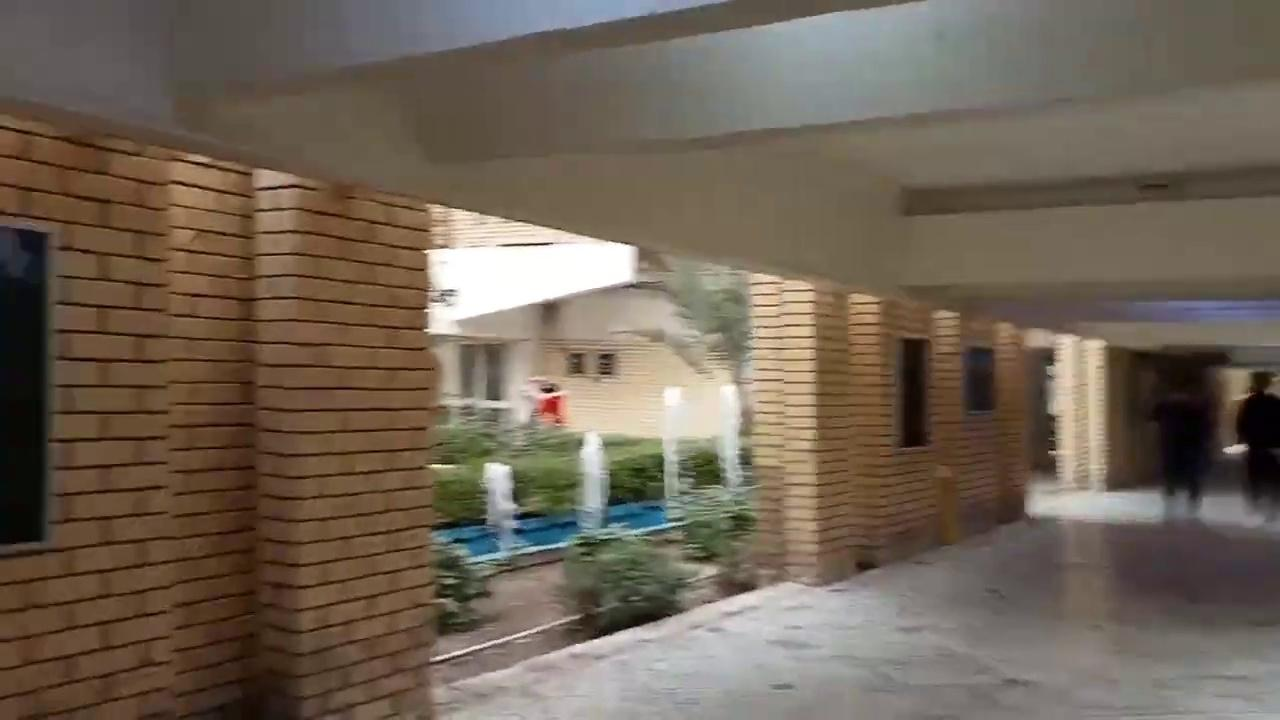fountain: (425, 254, 761, 638), (429, 376, 756, 571), (573, 429, 610, 531), (716, 382, 744, 492), (480, 460, 518, 528)
person: (1146, 371, 1216, 513), (1234, 370, 1279, 522)
tree: (656, 255, 761, 591), (431, 397, 581, 527), (559, 524, 695, 635), (659, 256, 756, 382), (431, 536, 494, 633)
